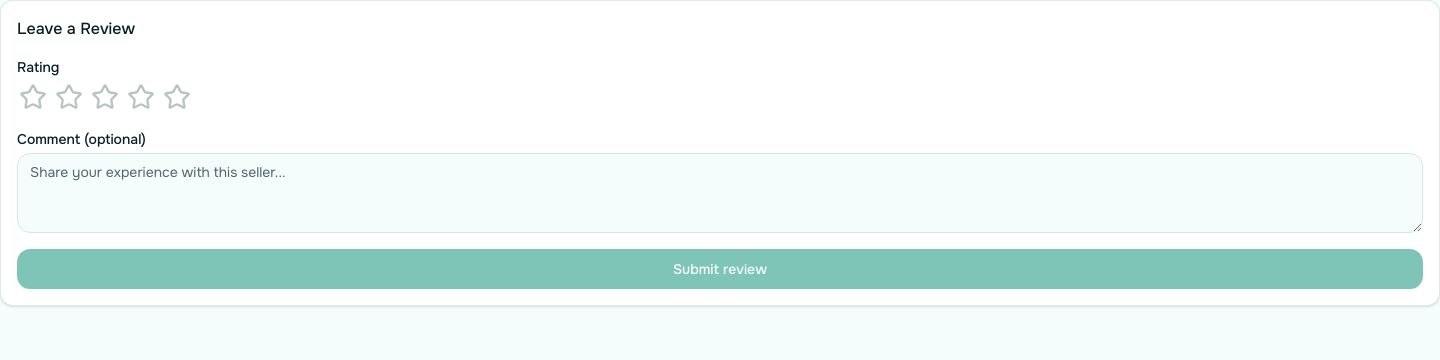
<LeaveReviewForm /> › shows must-contact inline message on 403 NO_CONVERSATION
The width and height of the screenshot is (1440, 360).
Step 1. Click the button named "star" → (33, 97), box [17,81,49,113]
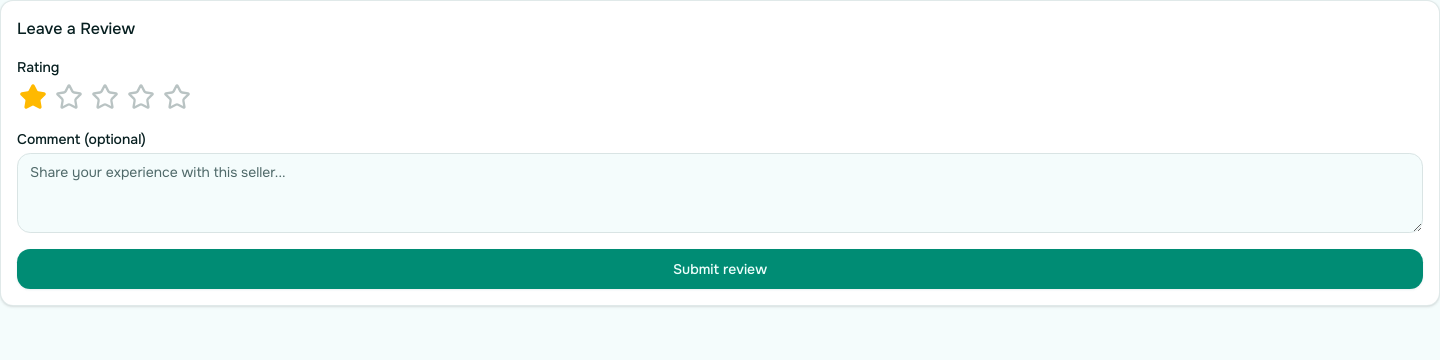
Step 2. Click the button "Submit review" → (720, 269), box [17,249,1423,289]
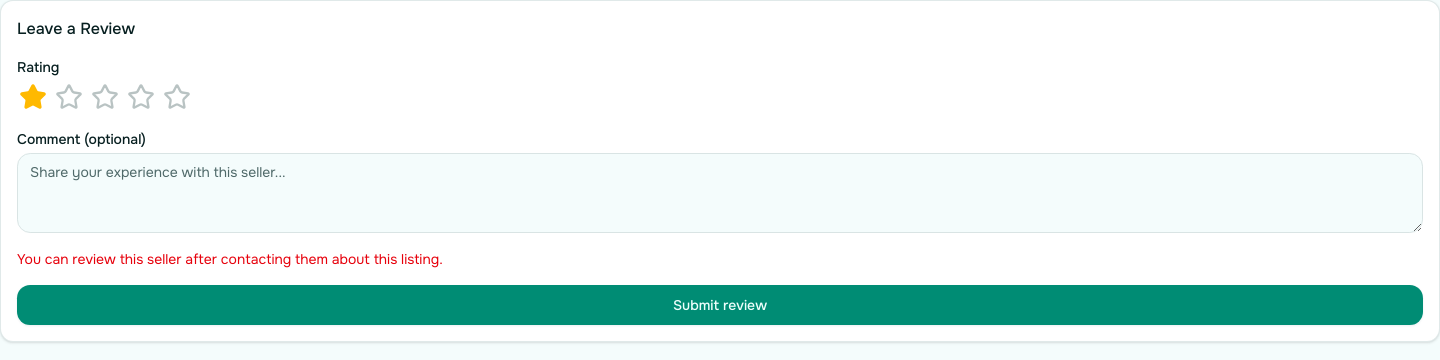
expect the text "You can review this seller after contacting them about this listing." is shown: met, box [17,250,443,268]
